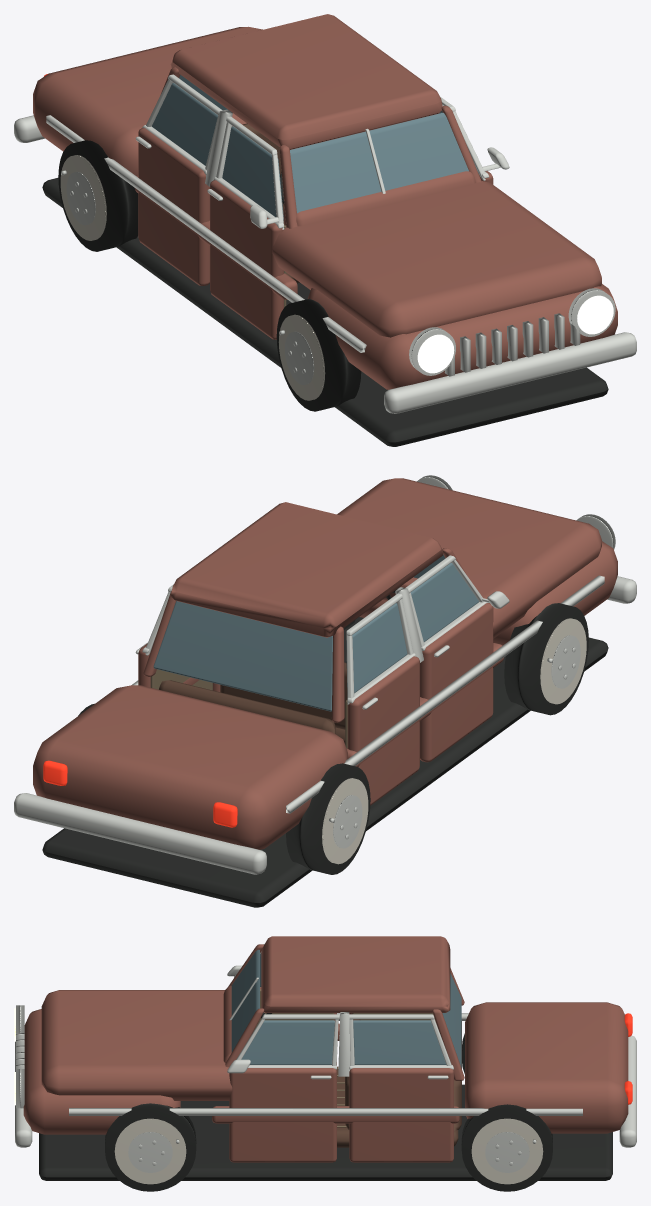
File: hudson.glb
3 renders of one model, top to bottom at view 1: azimuth 30°, elevation 25°; view 2: azimuth 150°, elevation 25°; view 3: azimuth 270°, elevation 25°, orthographic. The views are drawn at different scales.
Parts seen in each view (by area): view 1: front body, windscreen divider, floor pan, split windscreen, door skin.001, door skin, wheel.001, wheel, door window.001, door window, headlight, whitewall (+5 smaller); view 2: front body, floor pan, split windscreen, windscreen divider, door skin, door skin.001, wheel, wheel.001, bench cushion, door window.001, door window, whitewall (+6 smaller); view 3: front body, floor pan, door skin.002, door skin.003, windscreen divider, door window.003, door window.002, wheel.002, wheel.003, split windscreen, whitewall.002, whitewall.003 (+5 smaller).
Part boxes in pixels (x1,y1,x2,y2): front body: [33, 14, 617, 389]; windscreen divider: [14, 109, 636, 413]; floor pan: [42, 172, 608, 446]; split windscreen: [179, 75, 468, 213]; door skin.001: [138, 128, 209, 285]; door skin: [210, 180, 283, 339]; wheel.001: [58, 140, 138, 251]; wheel: [276, 298, 361, 411]; door window.001: [152, 83, 217, 165]; door window: [222, 126, 283, 220]; headlight: [417, 295, 613, 373]; whitewall: [278, 314, 325, 400]; front body: [33, 478, 617, 849]; floor pan: [42, 589, 608, 907]; split windscreen: [153, 554, 445, 711]; windscreen divider: [14, 475, 636, 874]; door skin: [420, 603, 493, 762]; door skin.001: [347, 656, 419, 805]; wheel: [504, 603, 588, 715]; wheel.001: [286, 763, 370, 874]; bench cushion: [159, 662, 347, 744]; door window.001: [346, 603, 407, 692]; door window: [410, 563, 478, 641]; whitewall: [540, 618, 586, 704]; front body: [23, 936, 628, 1134]; floor pan: [39, 1012, 612, 1180]; door skin.002: [229, 1068, 336, 1162]; door skin.003: [349, 1068, 453, 1162]; windscreen divider: [15, 965, 636, 1147]; door window.003: [353, 1020, 446, 1064]; door window.002: [241, 1020, 334, 1064]; wheel.002: [105, 1103, 196, 1191]; wheel.003: [461, 1104, 552, 1191]; split windscreen: [231, 949, 461, 1067]; whitewall.002: [114, 1118, 186, 1184]; whitewall.003: [471, 1118, 543, 1184].
Bounding box in the file's own units: 2.08 × 1.57 × 5.05.
